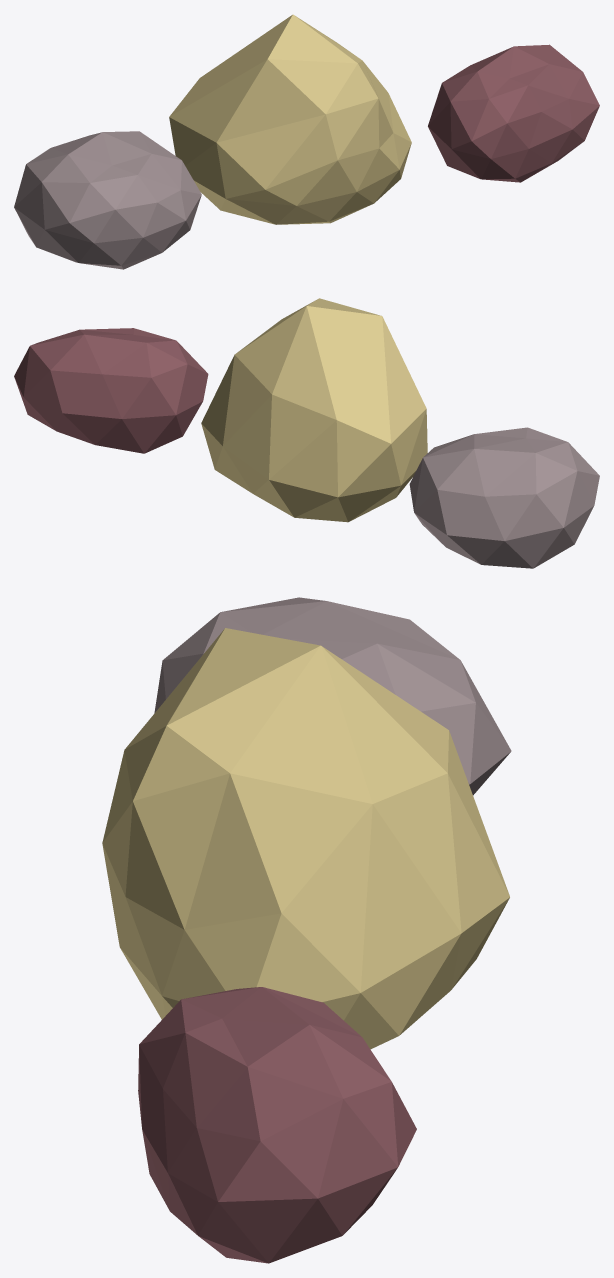
Rendered from Stones.fbx.
3 views of the same model, one above another, from view 1: azimuth 30°, elevation 25°; view 2: azimuth 150°, elevation 25°; view 3: azimuth 270°, elevation 25° (orthographic). The views are drawn at different scales.
Visible parts, largest first — view 1: Stone_2, Stone, Stone_3; view 2: Stone_2, Stone, Stone_3; view 3: Stone_2, Stone_3, Stone.
Boxes of the visible parts, box(x1,y1,x2,y2) form: Stone_2: box(169, 14, 411, 224); Stone: box(14, 131, 201, 269); Stone_3: box(428, 44, 599, 182); Stone_2: box(201, 298, 427, 522); Stone: box(409, 427, 599, 568); Stone_3: box(14, 328, 208, 453); Stone_2: box(102, 628, 509, 1049); Stone_3: box(138, 987, 416, 1263); Stone: box(154, 597, 511, 795).
Size of the model in its own units: 7.08 by 2.36 by 2.29.
